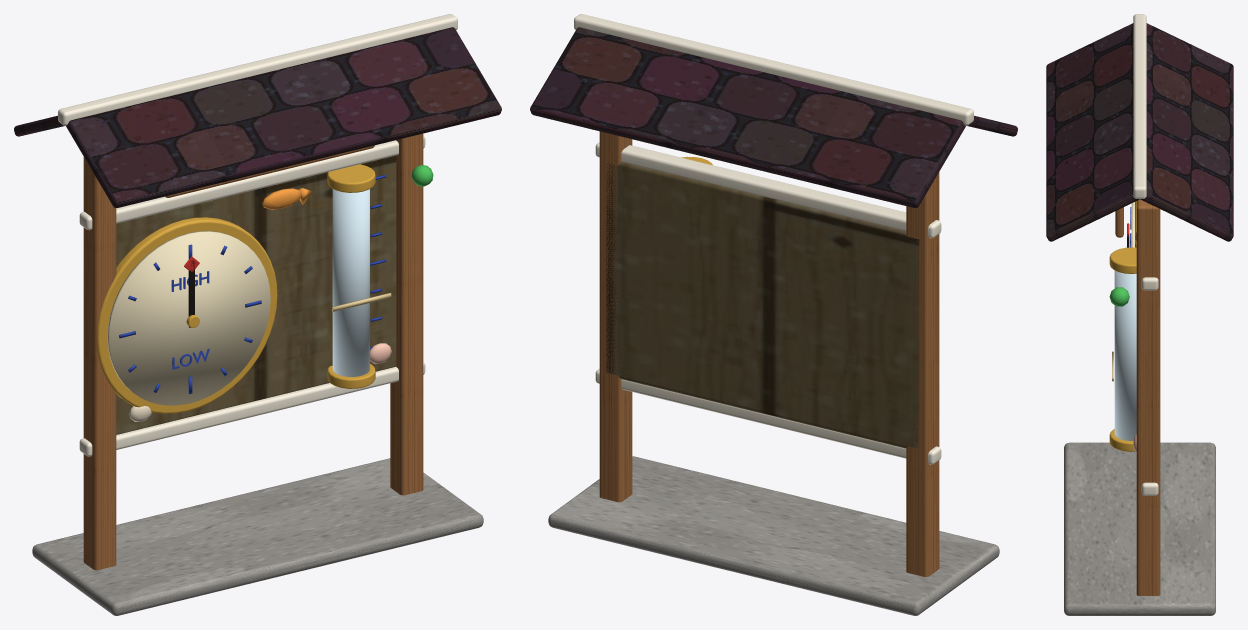
Rendered from tideclock.glb.
3 views of the same model, side by side, from view 1: azimuth 30°, elevation 25°; view 2: azimuth 150°, elevation 25°; view 3: azimuth 270°, elevation 25° (orthographic). The views are drawn at different scales.
Visible parts, largest first — view 1: tc_roof, tc_pad, tc_board, tc_face, tc_post, tc_post.001, tc_tube, tc_ridge, tc_ring, tc_frame_b, tc_frame_t, tc_capt (+1 smaller); view 2: tc_board, tc_roof.001, tc_pad, tc_post, tc_post.001, tc_ridge, tc_frame_t, tc_frame_b; view 3: tc_pad, tc_roof, tc_roof.001, tc_post.001, tc_tube, tc_ridge, tc_capt, tide_lamp, tc_capb.
Boxes of the visible parts, box(x1,y1,x2,y2) form: tc_roof: box(66, 27, 501, 207); tc_pad: box(32, 458, 483, 615); tc_board: box(116, 155, 396, 434); tc_face: box(107, 231, 270, 405); tc_post: box(83, 157, 116, 570); tc_post.001: box(390, 133, 423, 495); tc_tube: box(332, 189, 369, 376); tc_ridge: box(58, 14, 457, 125); tc_ring: box(96, 217, 277, 413); tc_frame_b: box(79, 362, 425, 456); tc_frame_t: box(79, 136, 425, 230); tc_capt: box(327, 164, 375, 192); tc_board: box(606, 162, 919, 448); tc_roof.001: box(530, 27, 965, 207); tc_pad: box(548, 456, 999, 615); tc_post: box(906, 172, 939, 576); tc_post.001: box(599, 131, 632, 502); tc_ridge: box(574, 14, 973, 125); tc_frame_t: box(595, 142, 941, 238); tc_frame_b: box(595, 369, 941, 464); tc_pad: box(1064, 442, 1215, 615); tc_roof: box(1046, 23, 1139, 241); tc_roof.001: box(1140, 23, 1233, 241); tc_post.001: box(1136, 199, 1160, 595); tc_tube: box(1114, 270, 1136, 440); tc_ridge: box(1133, 14, 1146, 198); tc_capt: box(1109, 247, 1136, 273); tide_lamp: box(1109, 287, 1129, 306); tc_capb: box(1109, 429, 1134, 451).
Bounding box in the file's own units: 2.45 × 2.84 × 1.11.
Materials: 17 (4 with a texture image).
